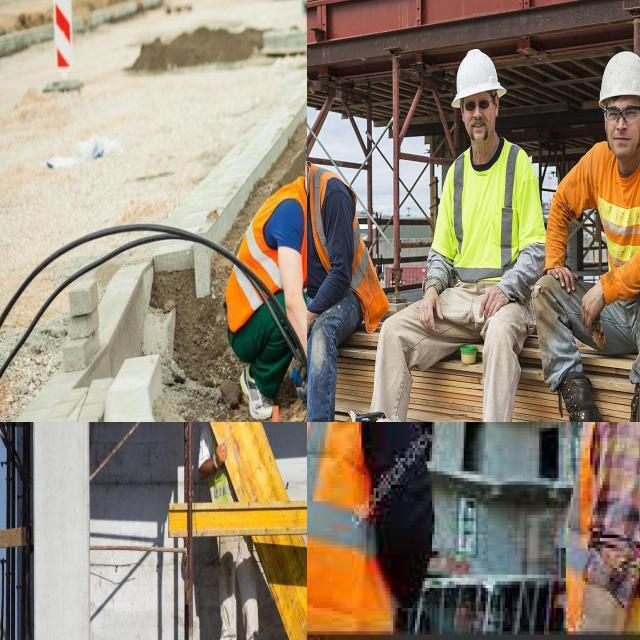No_Ear-Protection: (494, 90, 501, 118)
face_nomask: (603, 98, 640, 164), (458, 91, 502, 136)
glasses: (601, 102, 640, 123), (463, 98, 491, 112)
hand_glove: (296, 358, 307, 413), (212, 442, 229, 476)
hand_noglove: (578, 280, 608, 342), (546, 261, 577, 302), (479, 278, 510, 319), (418, 288, 446, 329), (307, 306, 316, 359)
head_helmet: (589, 39, 640, 116), (443, 51, 510, 108)
person: (386, 44, 531, 422), (559, 64, 640, 422), (307, 422, 439, 624), (231, 126, 307, 410), (307, 91, 369, 422), (551, 422, 640, 624), (200, 422, 269, 640)
shoes: (542, 380, 610, 422), (237, 360, 275, 422), (612, 377, 640, 422)
vest: (307, 422, 407, 621), (432, 152, 557, 286), (566, 422, 640, 618), (225, 192, 307, 317), (307, 162, 367, 301)
